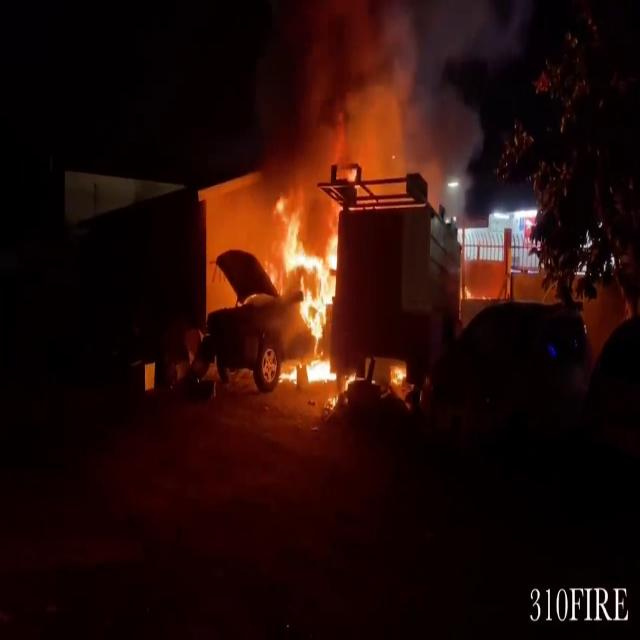Fire: (269, 199, 349, 385)
Smoke: (259, 0, 477, 197)
